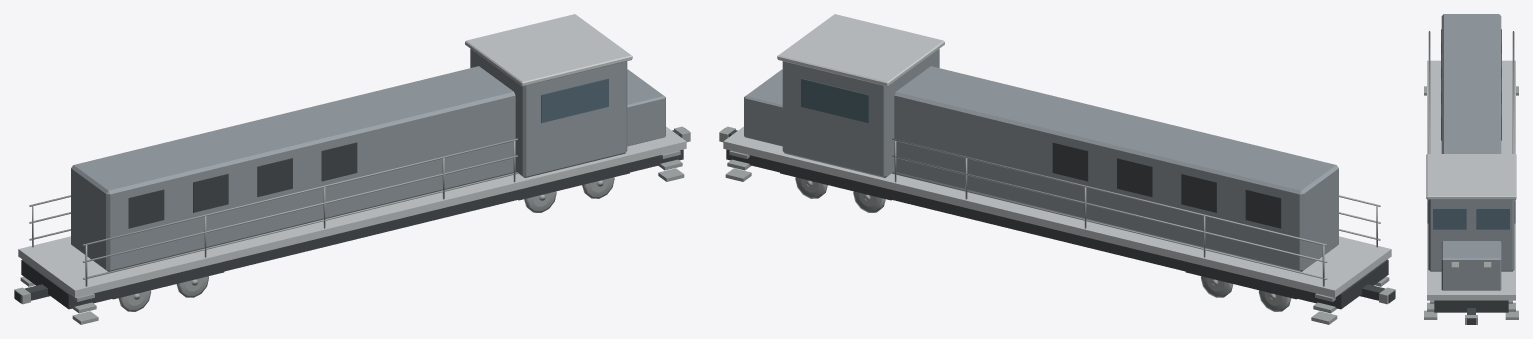
File: SM_MPR4_Locomotive.fbx
The picture shows the model from 3 angles, left to right: view 1: azimuth 30°, elevation 25°; view 2: azimuth 150°, elevation 25°; view 3: azimuth 270°, elevation 25°; orthographic projection. The views are drawn at different scales.
Parts seen in each view (by area): view 1: SM_MPR4_Locomotive; view 2: SM_MPR4_Locomotive; view 3: SM_MPR4_Locomotive.
Part boxes in pixels (x1,y1,x2,y2): SM_MPR4_Locomotive: (14,14,690,324); SM_MPR4_Locomotive: (719,14,1395,324); SM_MPR4_Locomotive: (1424,14,1518,324).
Bounding box in the file's own units: 2080 × 325 × 441.
